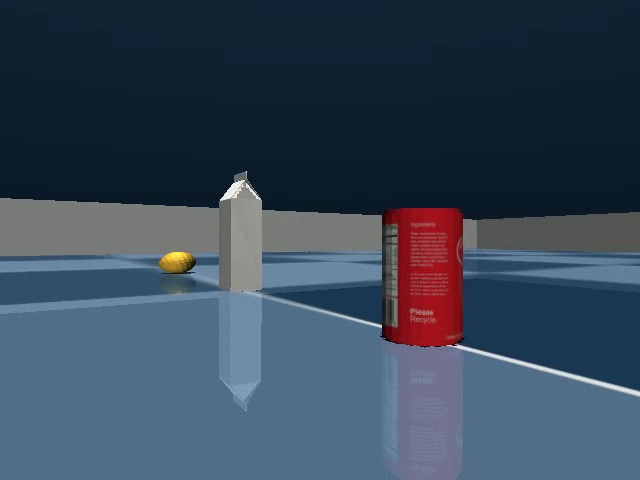can: (376, 199, 470, 355)
lemon: (152, 245, 200, 280)
milk: (212, 164, 270, 302)
